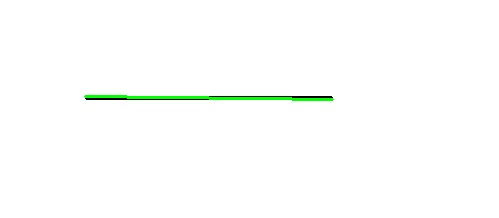line_segment: (85, 95, 333, 101)
